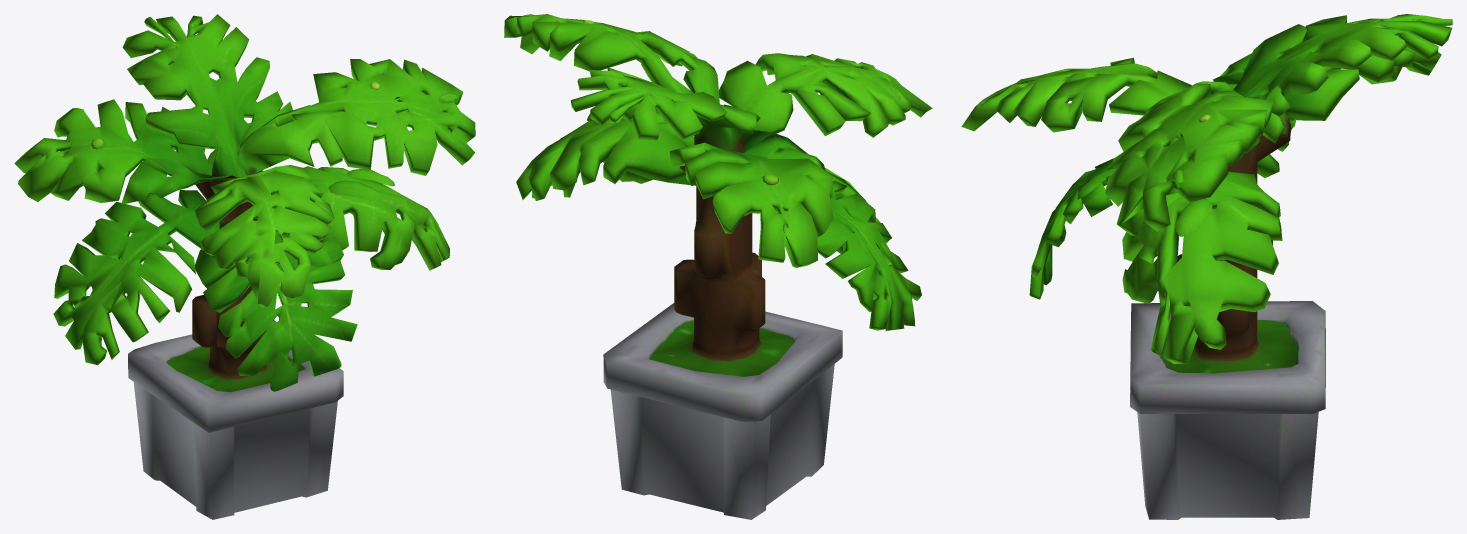
File: Bank_PottedPlant.glb
The picture shows the model from 3 angles, left to right: view 1: azimuth 30°, elevation 25°; view 2: azimuth 150°, elevation 25°; view 3: azimuth 270°, elevation 25°; orthographic projection. The views are drawn at different scales.
Parts seen in each view (by area): view 1: tripo_node_b4b33cba-65a4-4df0-84c3-d970e2683b9b; view 2: tripo_node_b4b33cba-65a4-4df0-84c3-d970e2683b9b; view 3: tripo_node_b4b33cba-65a4-4df0-84c3-d970e2683b9b.
Boxes of the visible parts, x1,y1,x2,y2 form: tripo_node_b4b33cba-65a4-4df0-84c3-d970e2683b9b: (14,14,475,519); tripo_node_b4b33cba-65a4-4df0-84c3-d970e2683b9b: (504,14,932,519); tripo_node_b4b33cba-65a4-4df0-84c3-d970e2683b9b: (961,14,1452,519).
Size of the model in its own units: 0.9726 by 1 by 0.9306.
Materials: 1 (1 with a texture image).
